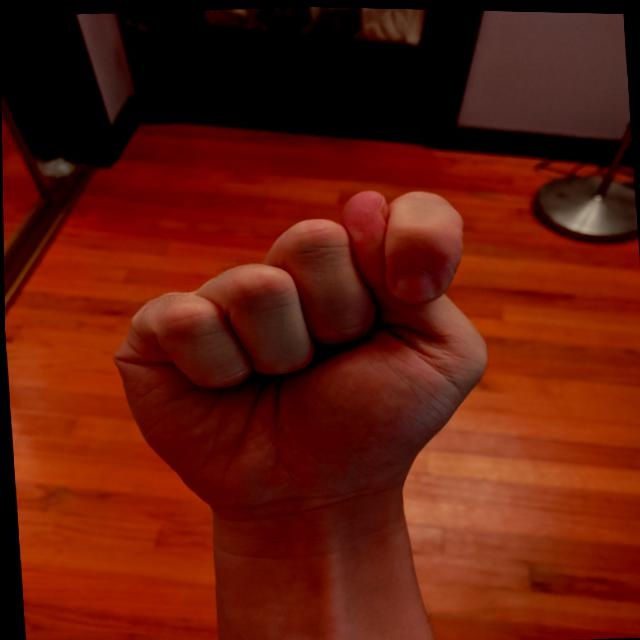T: (95, 170, 511, 534)
